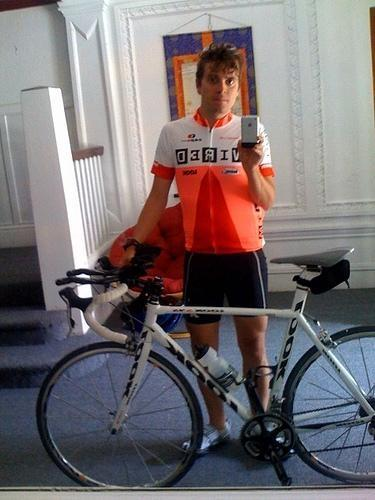bicycle: (35, 244, 374, 488)
